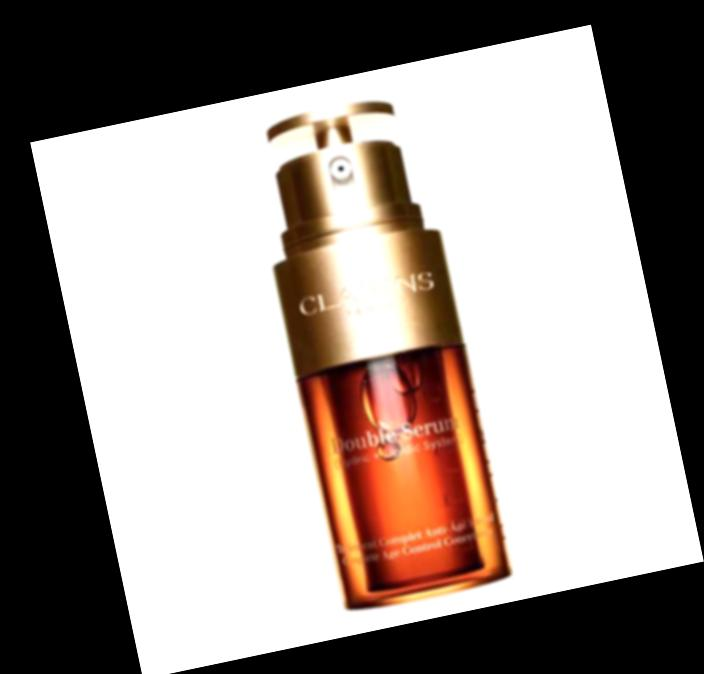cosmetic: (235, 82, 515, 611)
